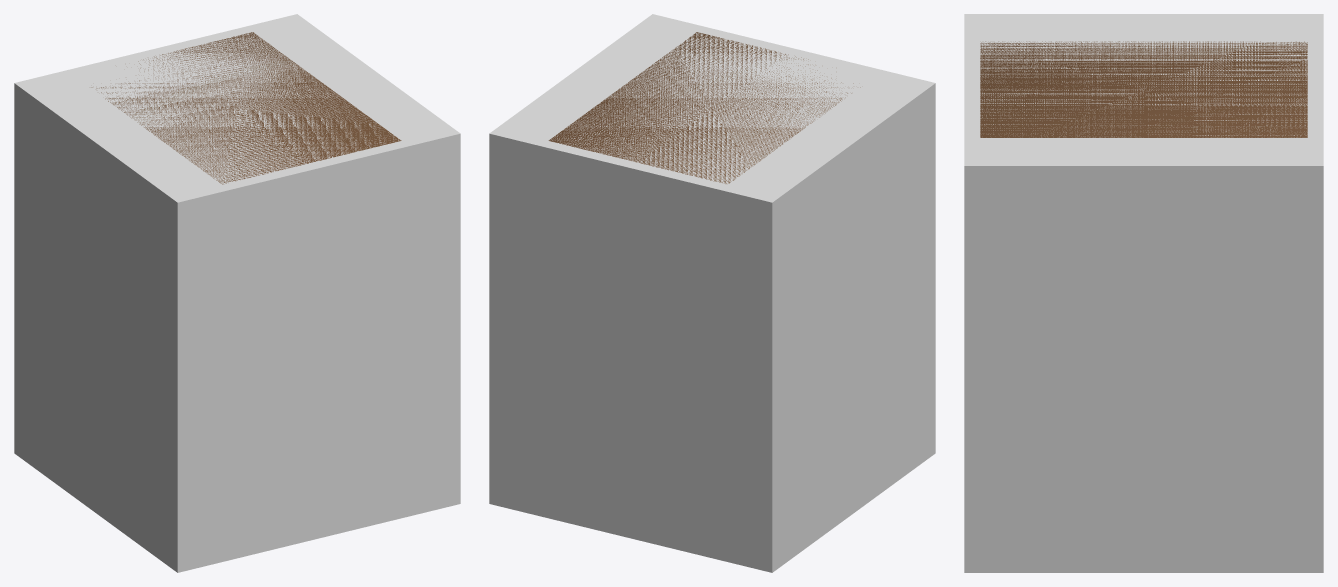
Rendered from anchor_timber_c.glb.
The picture shows the model from 3 angles, left to right: view 1: azimuth 30°, elevation 25°; view 2: azimuth 150°, elevation 25°; view 3: azimuth 270°, elevation 25°; orthographic projection. The views are drawn at different scales.
Parts seen in each view (by area): view 1: anchor_timber_c-col, anchor_timber_c; view 2: anchor_timber_c-col, anchor_timber_c; view 3: anchor_timber_c-col, anchor_timber_c.
Part boxes in pixels (box(x1,y1,x2,y2)): anchor_timber_c-col: box(14, 14, 460, 572); anchor_timber_c: box(91, 32, 401, 184); anchor_timber_c-col: box(489, 14, 935, 572); anchor_timber_c: box(548, 32, 860, 183); anchor_timber_c-col: box(964, 14, 1323, 572); anchor_timber_c: box(980, 41, 1307, 137).
Bounding box in the file's own units: 8 × 10 × 8.
